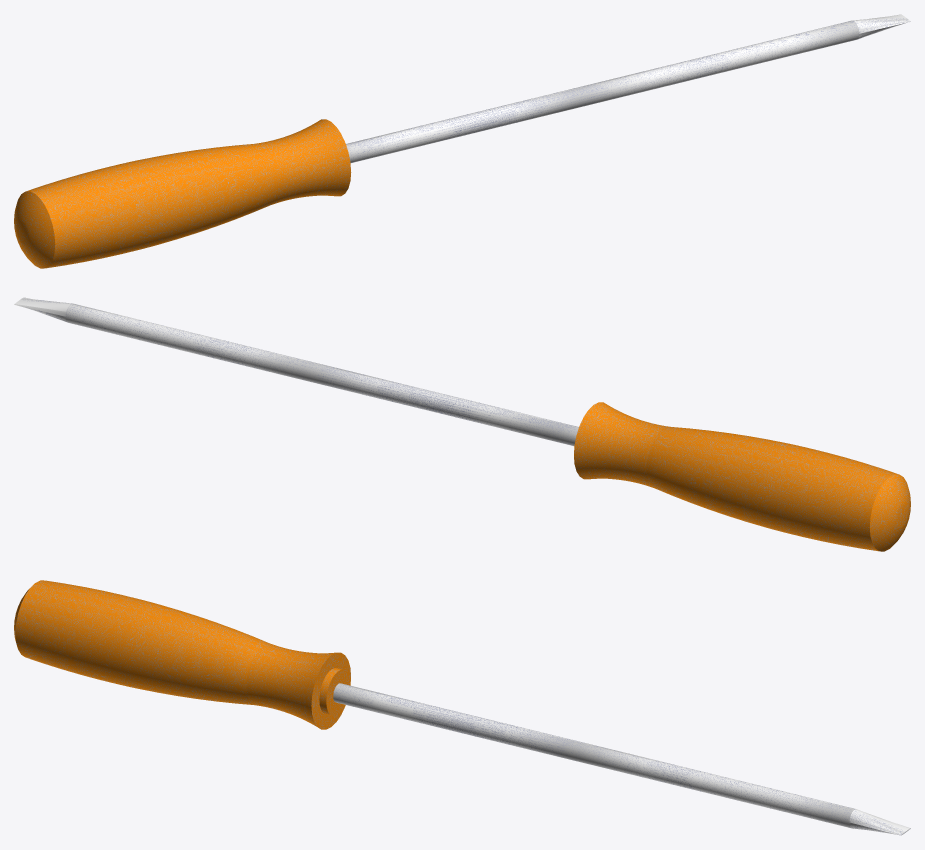
3 views of the same model, one above another, from view 1: azimuth 30°, elevation 25°; view 2: azimuth 150°, elevation 25°; view 3: azimuth 330°, elevation 25° (orthographic).
Visible parts, largest first — view 1: SketchUp (×2); view 2: SketchUp (×2); view 3: SketchUp (×3).
Boxes of the visible parts, box(x1,y1,x2,y2) form: SketchUp (×2): box(14, 17, 910, 268); SketchUp (×2): box(19, 297, 910, 551); SketchUp (×3): box(14, 580, 910, 835).
Size of the model in its own units: 10.11 by 0.8705 by 0.8706.
